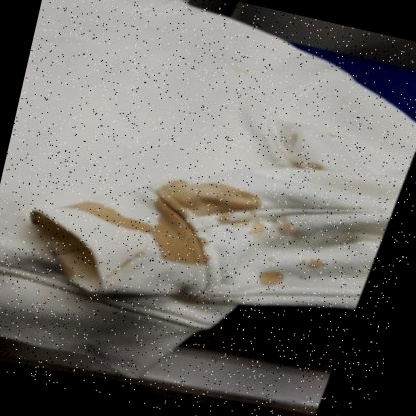coffee: (164, 176, 259, 224), (87, 204, 162, 237), (155, 219, 201, 260), (258, 268, 283, 289)
